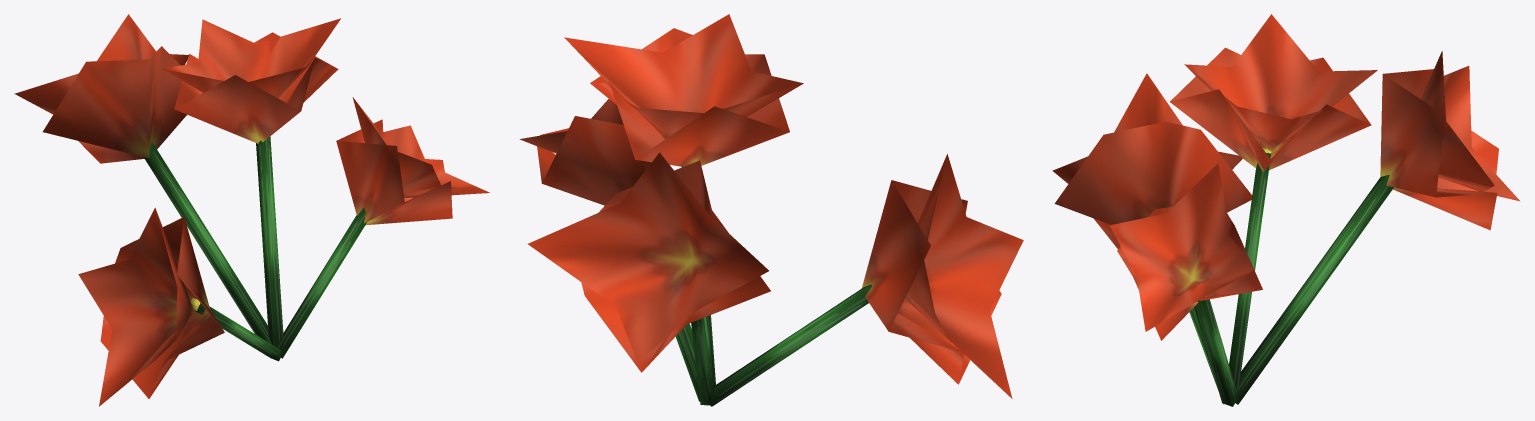
Rendered from Flower2.fbx.
The picture shows the model from 3 angles, left to right: view 1: azimuth 30°, elevation 25°; view 2: azimuth 150°, elevation 25°; view 3: azimuth 270°, elevation 25°; orthographic projection. The views are drawn at different scales.
Parts seen in each view (by area): view 1: Poppy2; view 2: Poppy2; view 3: Poppy2.
Part boxes in pixels (bbox=[...]): Poppy2: bbox=[14, 14, 489, 406]; Poppy2: bbox=[519, 14, 1023, 406]; Poppy2: bbox=[1052, 14, 1520, 406].
Bounding box in the file's own units: 0.8195 × 0.6118 × 0.7585.
